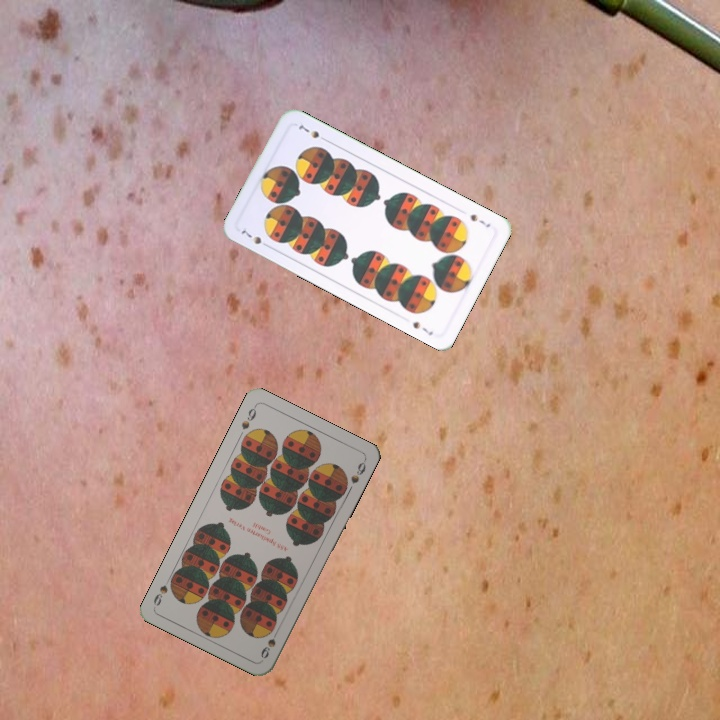S7: (235, 223, 273, 251), (466, 210, 493, 230)
S9: (257, 624, 282, 661), (237, 402, 259, 432)
